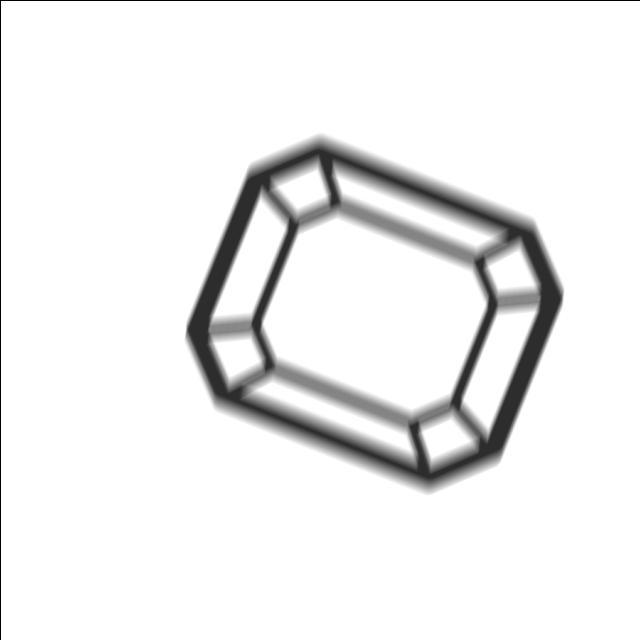emerald: (179, 127, 571, 501)
